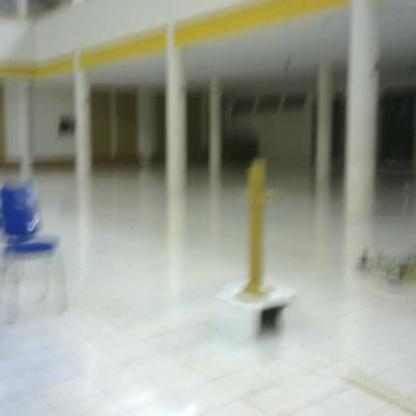pole: (233, 153, 284, 307)
